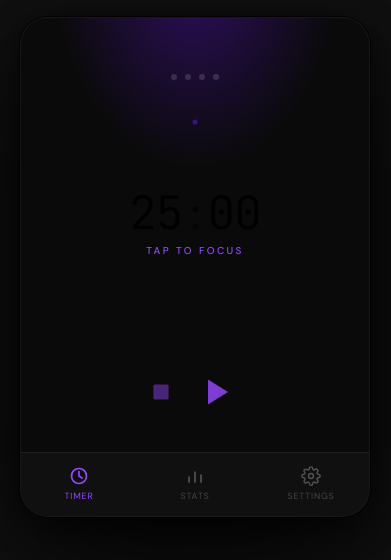
Test: ring interaction › tapping again pauses — label reverts to "Tap to Focus"
This screenshot has width=391, height=560.
Step 1. Click the button with aria-label "start focus" → click(195, 224), box [85,114,305,334]
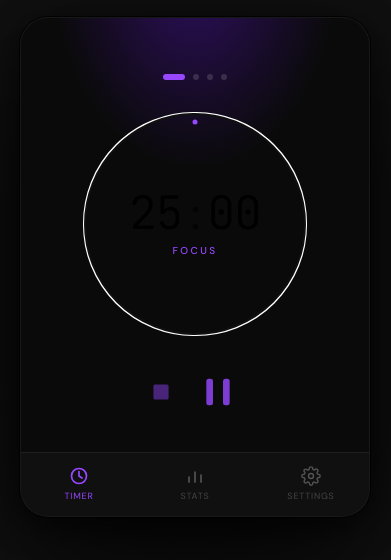
Step 2. Click the button with aria-label "pause focus" → click(195, 224), box [85,114,305,334]
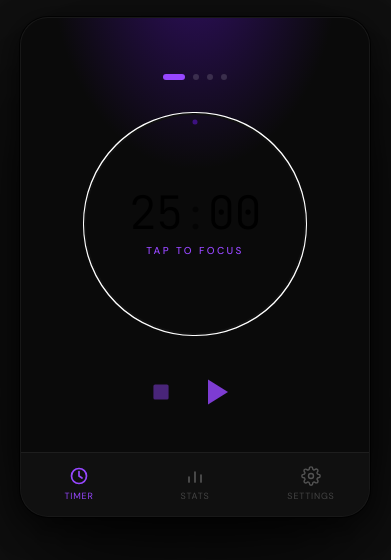
Expected: the text "Tap to Focus" is shown, [146,243,244,258]
